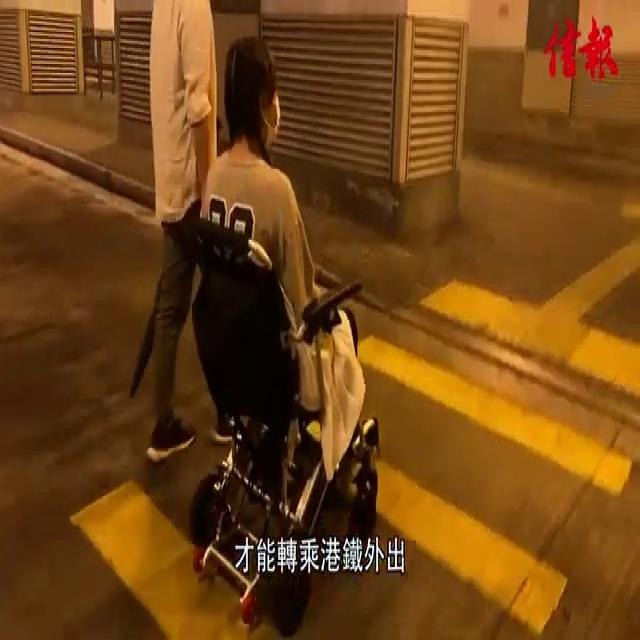wheelchairs: (184, 170, 388, 638)
